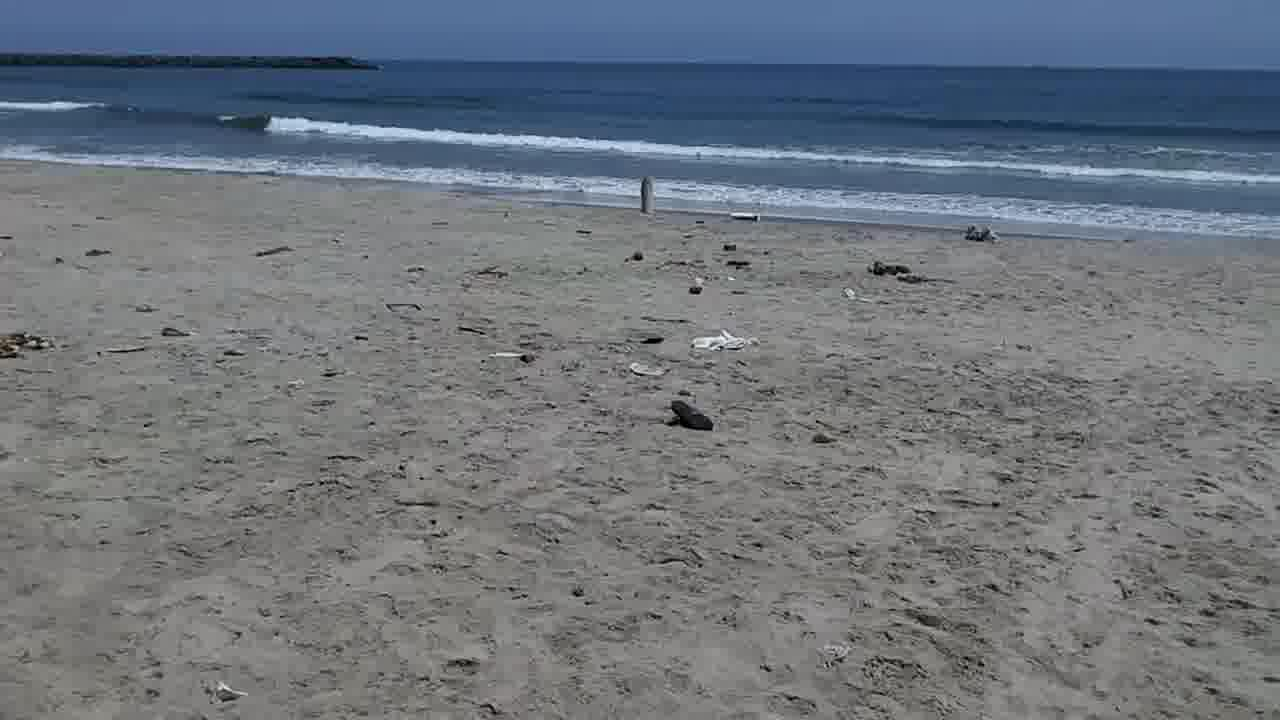large collection of objects: (966, 224, 1000, 243), (727, 259, 753, 270), (722, 242, 736, 250)
obj: (687, 327, 764, 351), (866, 258, 932, 285), (667, 398, 716, 430), (253, 241, 294, 258), (640, 178, 658, 216), (628, 364, 666, 377), (76, 245, 112, 258), (622, 250, 644, 262), (487, 352, 525, 358), (841, 287, 856, 297), (694, 276, 704, 288)
sand/background: (0, 0, 1279, 241)
